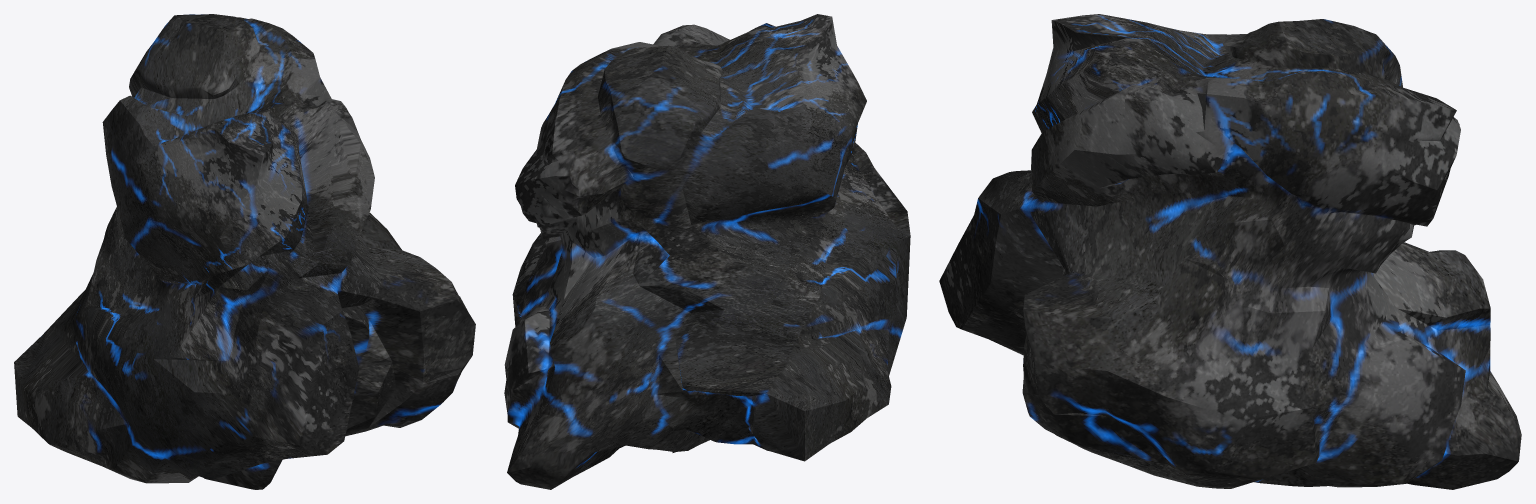
File: cyberpunk_rock.glb
3 views of the same model, side by side, from view 1: azimuth 30°, elevation 25°; view 2: azimuth 150°, elevation 25°; view 3: azimuth 270°, elevation 25° (orthographic). The views are drawn at different scales.
Parts seen in each view (by area): view 1: Object_2; view 2: Object_2; view 3: Object_2.
Part boxes in pixels (x1=…): Object_2: x1=14, y1=14, x2=475, y2=489; Object_2: x1=504, y1=14, x2=910, y2=489; Object_2: x1=939, y1=14, x2=1521, y2=489.
Size of the model in its own units: 10.27 by 10.54 by 12.67.
1 material, 1 textured.
